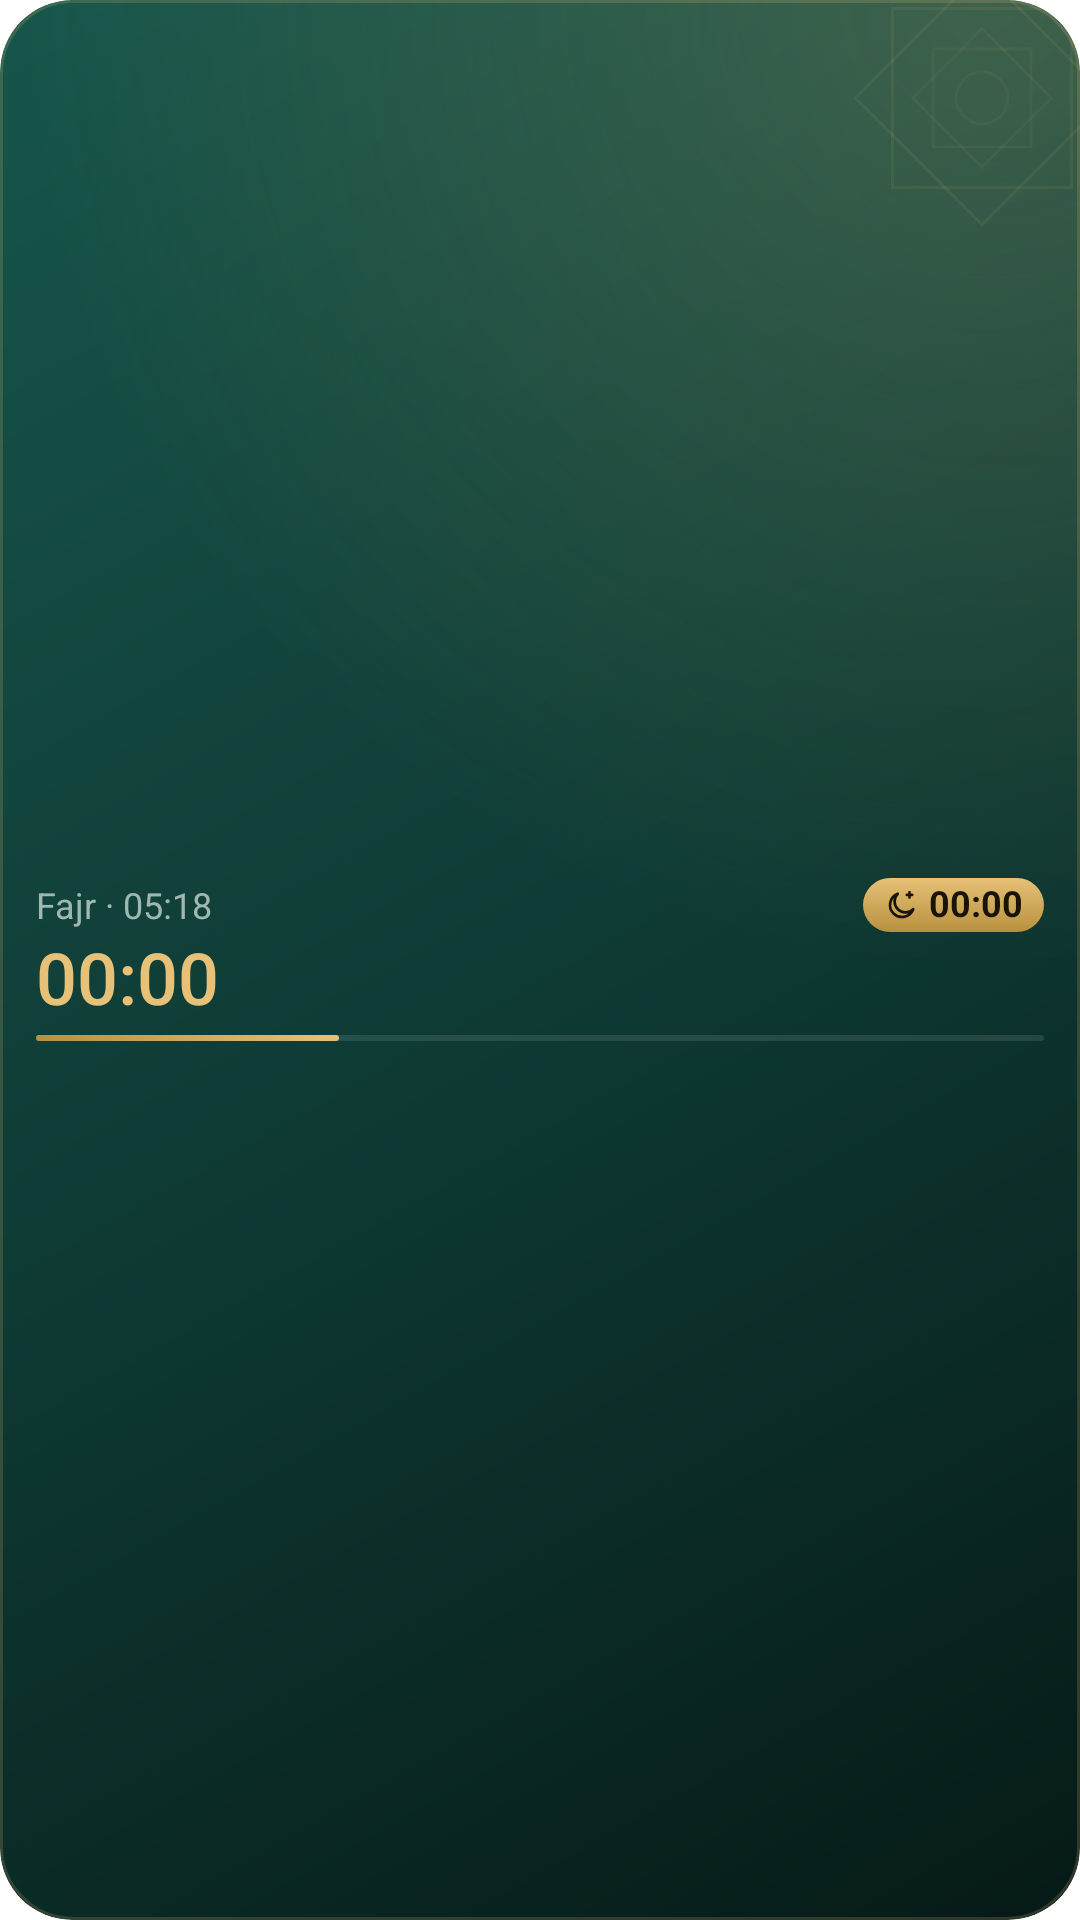

Screen size 1080 × 1920. Icon name, then its center in pixels as (x=x, y=y):
isha: (x=902, y=905)
